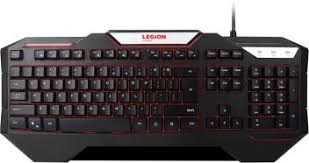keyboard: (0, 36, 307, 163)
